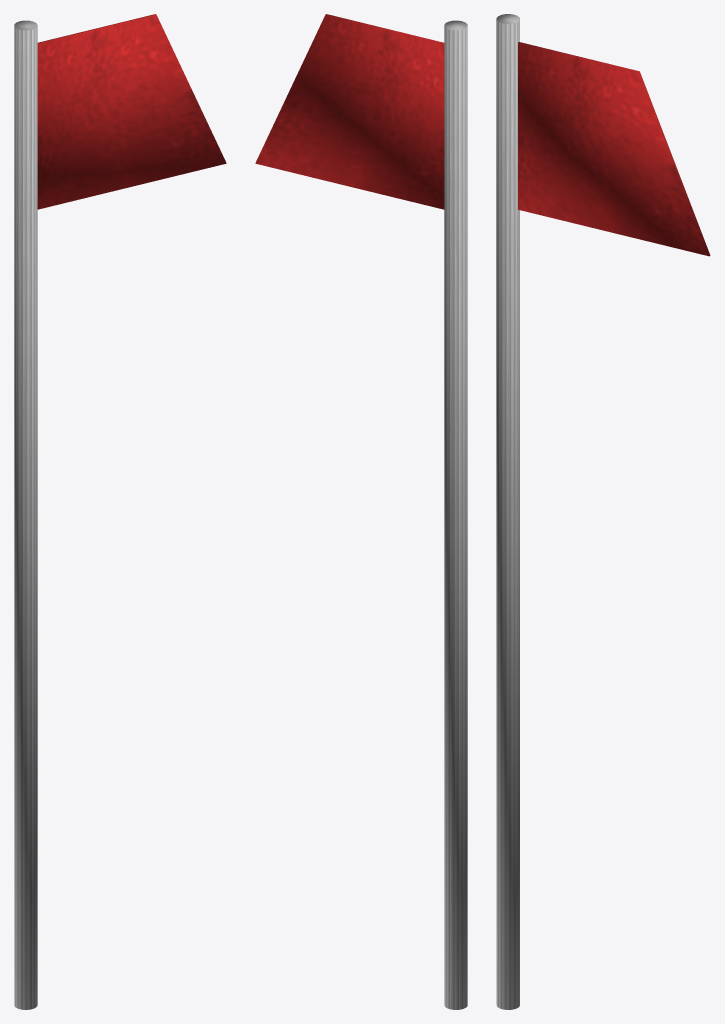
File: item_flag.obj
3 renders of one model, left to right at view 1: azimuth 30°, elevation 25°; view 2: azimuth 150°, elevation 25°; view 3: azimuth 330°, elevation 25°, orthographic.
Parts seen in each view (by area): view 1: Cylinder; view 2: Cylinder; view 3: Cylinder.
Boxes of the visible parts, bbox=[...] form: Cylinder: bbox=[14, 14, 226, 1009]; Cylinder: bbox=[255, 14, 467, 1009]; Cylinder: bbox=[496, 14, 710, 1009].
Bounding box in the file's own units: 0.4362 × 1.94 × 0.0425.
